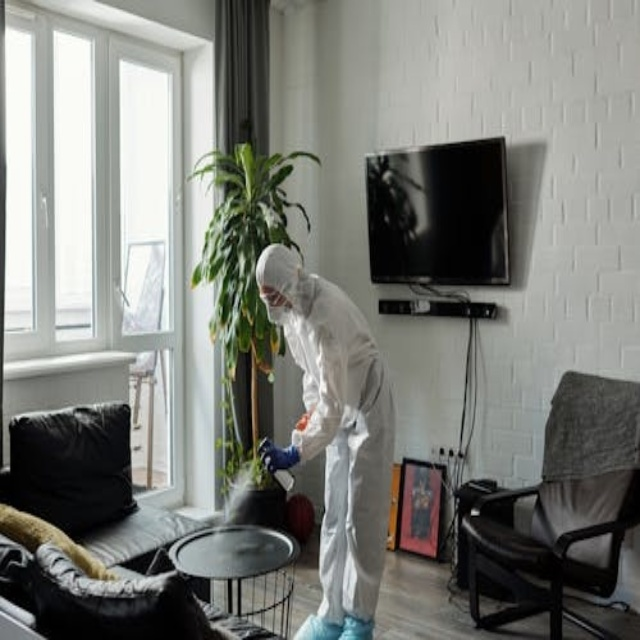Gafas: (260, 286, 286, 308)
Guantes: (253, 433, 298, 481)
Mascara: (267, 299, 293, 327)
